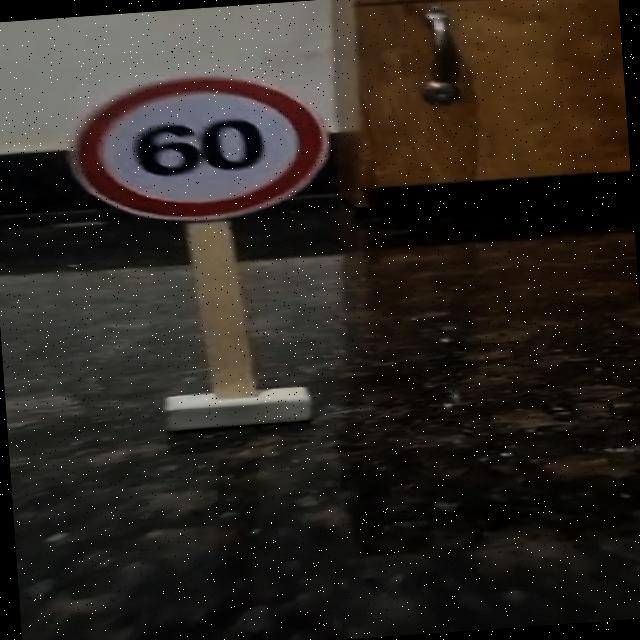Speed60: (59, 64, 341, 235)
